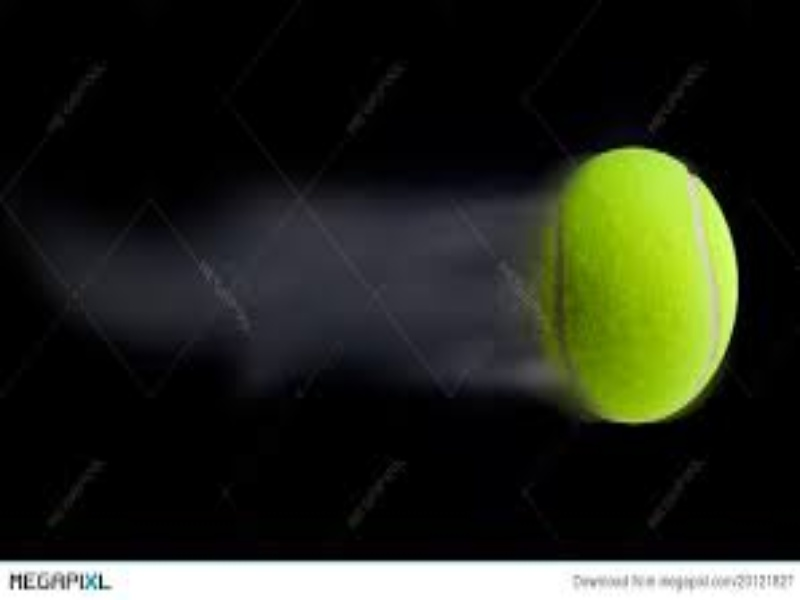tennis ball: (524, 125, 741, 447)
